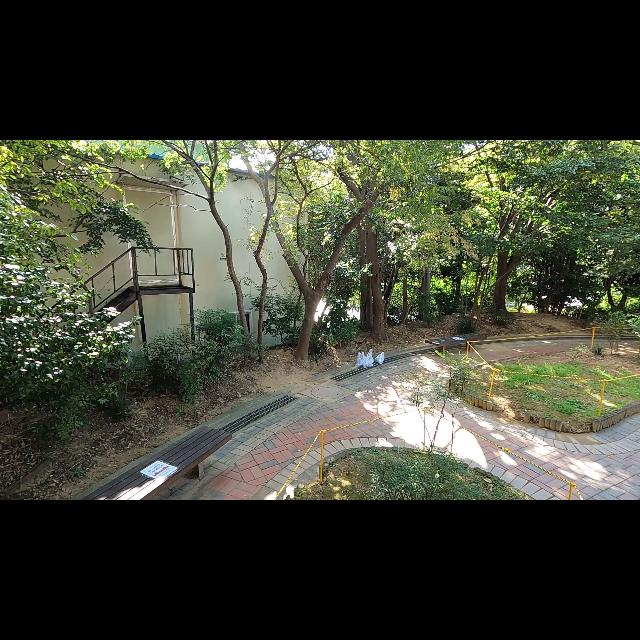trash: (361, 348, 375, 368), (373, 350, 387, 368), (356, 352, 368, 368)
